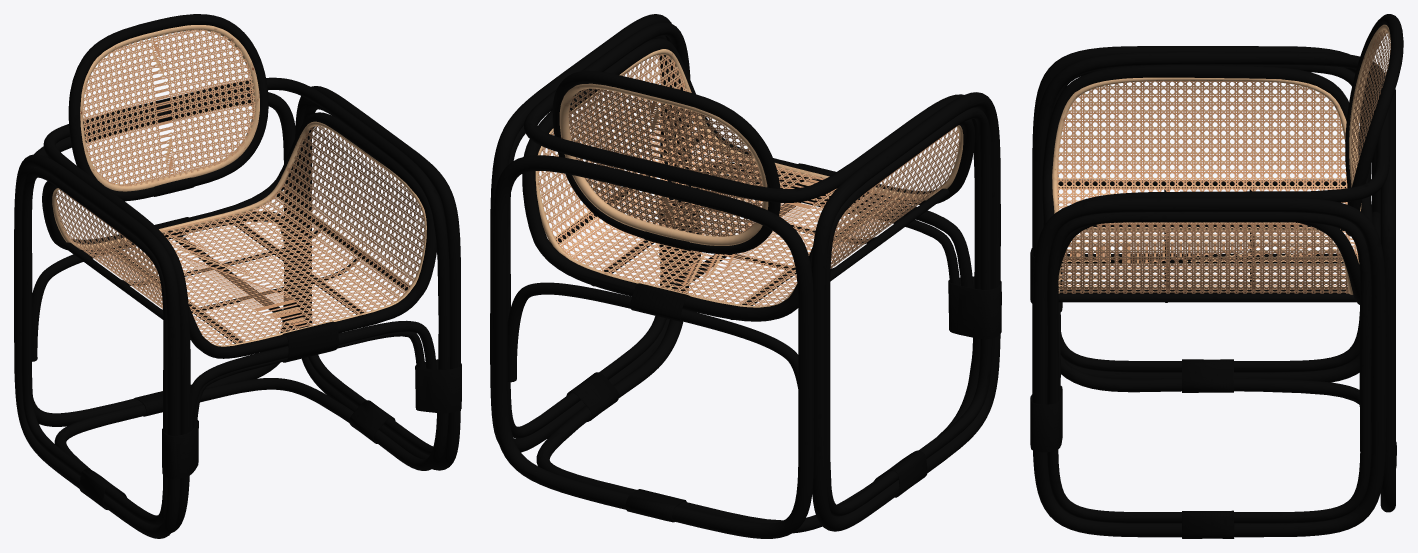
Rendered from armchair-with-rattan-black-themasie-emba.glb.
3 views of the same model, side by side, from view 1: azimuth 30°, elevation 25°; view 2: azimuth 150°, elevation 25°; view 3: azimuth 270°, elevation 25° (orthographic). The views are drawn at different scales.
Parts seen in each view (by area): view 1: SM_TheMasie_Armchair_EMBA_Black_HP_M_Chair_Wood_Bentwood_Bla, SM_TheMasie_Armchair_EMBA_Black_HP, SM_TheMasie_Armchair_EMBA_Black_HP_M_Chair_Wood_Bentwood_Bri; view 2: SM_TheMasie_Armchair_EMBA_Black_HP_M_Chair_Wood_Bentwood_Bla, SM_TheMasie_Armchair_EMBA_Black_HP, SM_TheMasie_Armchair_EMBA_Black_HP_M_Chair_Wood_Bentwood_Bri; view 3: SM_TheMasie_Armchair_EMBA_Black_HP_M_Chair_Wood_Bentwood_Bla, SM_TheMasie_Armchair_EMBA_Black_HP, SM_TheMasie_Armchair_EMBA_Black_HP_M_Chair_Wood_Bentwood_Bri.
Boxes of the visible parts, x1=… form: SM_TheMasie_Armchair_EMBA_Black_HP_M_Chair_Wood_Bentwood_Bla: x1=14, y1=14, x2=460, y2=538; SM_TheMasie_Armchair_EMBA_Black_HP: x1=56, y1=29, x2=461, y2=509; SM_TheMasie_Armchair_EMBA_Black_HP_M_Chair_Wood_Bentwood_Bri: x1=52, y1=25, x2=426, y2=346; SM_TheMasie_Armchair_EMBA_Black_HP_M_Chair_Wood_Bentwood_Bla: x1=490, y1=14, x2=1000, y2=538; SM_TheMasie_Armchair_EMBA_Black_HP: x1=538, y1=54, x2=1001, y2=522; SM_TheMasie_Armchair_EMBA_Black_HP_M_Chair_Wood_Bentwood_Bri: x1=535, y1=49, x2=963, y2=307; SM_TheMasie_Armchair_EMBA_Black_HP_M_Chair_Wood_Bentwood_Bla: x1=1032, y1=14, x2=1403, y2=537; SM_TheMasie_Armchair_EMBA_Black_HP: x1=1030, y1=30, x2=1396, y2=538; SM_TheMasie_Armchair_EMBA_Black_HP_M_Chair_Wood_Bentwood_Bri: x1=1052, y1=24, x2=1390, y2=294.
Bounding box in the file's own units: 0.7744 × 0.9591 × 0.7664.
4 materials, 4 textured.
